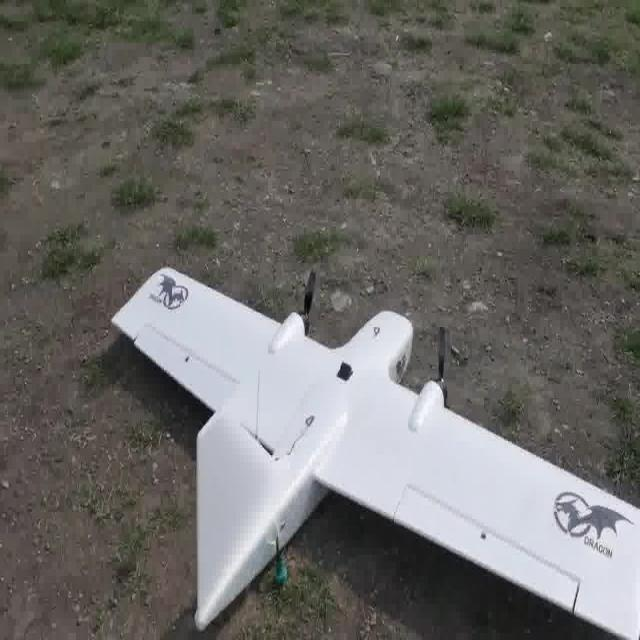iha: (108, 257, 640, 639)
